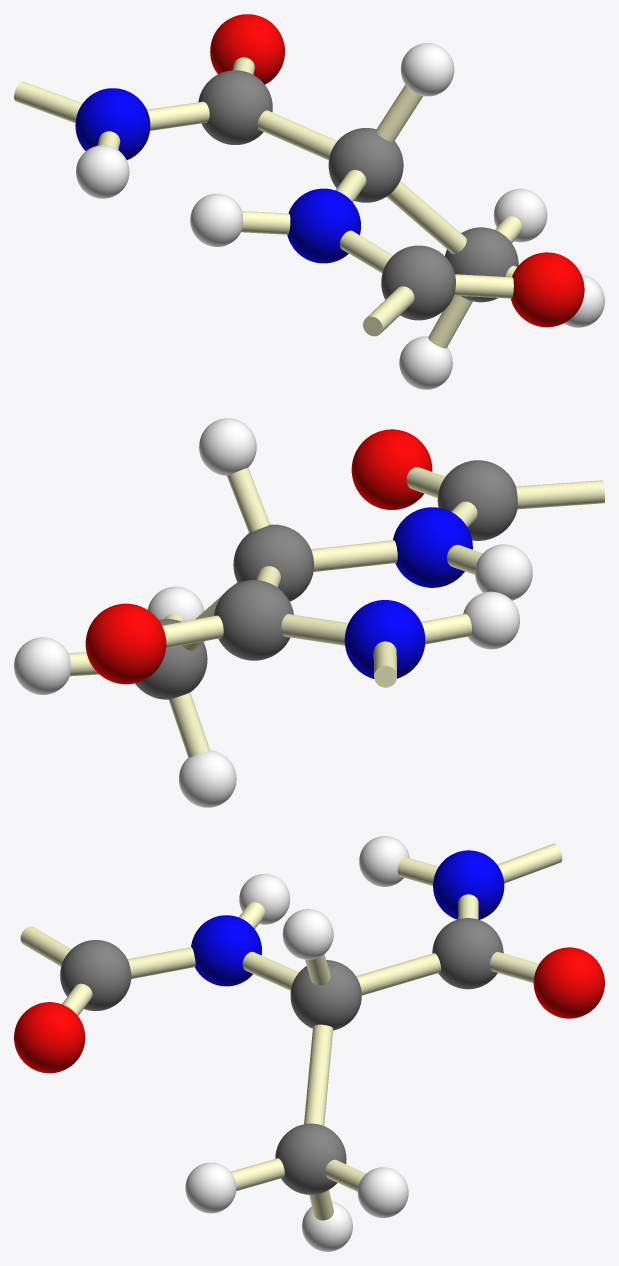
File: conformation.gltf
3 renders of one model, top to bottom at view 1: azimuth 30°, elevation 25°; view 2: azimuth 150°, elevation 25°; view 3: azimuth 270°, elevation 25°, orthographic. The views are drawn at different scales.
Visible parts, largest first — view 1: ?????????2, ?????????3, ?????????5, ?????????1, ?????????4, ?????????13, ?????????6, ?????????9, ?????????14, ?????????8, ?????????7, ?????????12 (+13 smaller); view 2: ?????????6, ?????????5, ?????????2, ?????????3, ?????????13, ?????????1, ?????????4, ?????????11, ?????????8, ?????????9, ?????????12, ?????????14 (+13 smaller); view 3: ?????????6, ?????????2, ?????????5, ?????????3, ?????????1, ?????????9, ?????????13, ?????????4, ?????????22, ?????????10, ?????????8, ?????????11 (+15 smaller).
Part boxes in pixels (x1,y1,x2,y2): ?????????2: (511,252,584,327); ?????????3: (287,188,360,263); ?????????5: (198,70,272,144); ?????????1: (381,245,455,320); ?????????4: (328,128,403,202); ?????????13: (75,88,150,159); ?????????6: (210,14,284,84); ?????????9: (445,227,518,302); ?????????14: (76,145,129,198); ?????????8: (400,43,454,96); ?????????7: (190,193,242,246); ?????????12: (399,336,452,389); ?????????6: (85,603,166,684); ?????????5: (214,580,293,660); ?????????2: (351,429,432,509); ?????????3: (393,507,472,587); ?????????13: (344,600,425,678); ?????????1: (437,460,517,540); ?????????4: (233,524,313,601); ?????????11: (14,637,70,694); ?????????8: (199,418,256,475); ?????????9: (135,619,207,699); ?????????12: (179,750,236,807); ?????????14: (463,591,519,649); ?????????6: (533,947,604,1018); ?????????2: (14,1002,85,1073); ?????????5: (432,918,503,989); ?????????3: (191,915,261,986); ?????????1: (60,940,131,1010); ?????????9: (275,1123,346,1194); ?????????13: (433,850,504,919); ?????????4: (290,960,361,1030); ?????????22: (304,1024,333,1125); ?????????10: (185,1162,236,1213); ?????????8: (282,909,333,959); ?????????11: (357,1167,408,1217).
Size of the model in its own units: 49.94 by 36.17 by 58.01.
